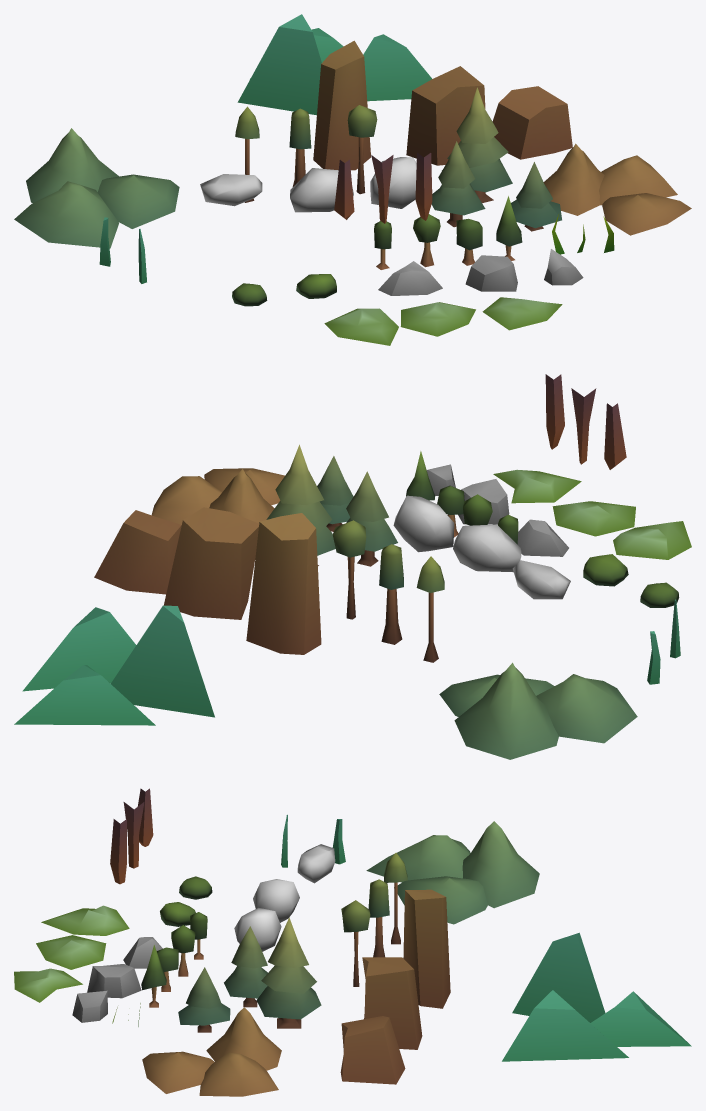
File: nature-kit-scene.glb
3 renders of one model, top to bottom at view 1: azimuth 30°, elevation 25°; view 2: azimuth 150°, elevation 25°; view 3: azimuth 270°, elevation 25°, orthographic. The views are drawn at different scales.
Parts seen in each view (by area): view 1: MountainFar001, Cliff003, Cliff001, Cliff002, Mountain002, TreeMed003, Mountain003, MountainFar002, Mountain001, HillSand001, HillSand003, TreeMed002 (+24 smaller); view 2: Cliff003, Cliff001, MountainFar001, Mountain001, Cliff002, MountainFar003, Mountain002, MountainFar002, TreeMed003, Cloud001, Cloud003, Hill003 (+22 smaller); view 3: MountainFar002, Cliff003, MountainFar001, Cliff001, TreeMed003, Mountain001, Cliff002, MountainFar003, Mountain002, HillSand002, HillSand001, Mountain003 (+24 smaller).
Boxes of the visible parts, x1,y1,x2,y2 form: MountainFar001: (237, 14, 321, 115); Cliff003: (313, 40, 370, 170); Cliff001: (406, 66, 485, 165); Cliff002: (492, 86, 572, 159); Mountain002: (14, 181, 118, 248); TreeMed003: (442, 87, 512, 203); Mountain003: (98, 174, 179, 228); MountainFar002: (363, 34, 431, 101); Mountain001: (26, 128, 118, 202); HillSand001: (543, 143, 604, 215); HillSand003: (602, 193, 691, 235); TreeMed002: (431, 141, 485, 227); Cliff003: (246, 513, 321, 654); Cliff001: (163, 507, 259, 619); MountainFar001: (111, 605, 214, 717); Mountain001: (454, 662, 558, 759); Cliff002: (94, 510, 181, 594); MountainFar003: (14, 665, 155, 725); Mountain002: (536, 674, 637, 743); MountainFar002: (22, 607, 136, 691); TreeMed003: (266, 444, 335, 565); Cloud001: (453, 524, 521, 572); Cloud003: (393, 495, 454, 552); Hill003: (613, 521, 691, 559); MountainFar002: (502, 990, 628, 1061); Cliff003: (403, 889, 450, 1008); MountainFar001: (512, 932, 605, 1022); Cliff001: (362, 957, 422, 1049); TreeMed003: (256, 917, 321, 1028); Mountain001: (462, 821, 539, 908); Cliff002: (340, 1016, 405, 1084); MountainFar003: (590, 991, 691, 1046); Mountain002: (366, 835, 470, 882); HillSand002: (199, 1052, 278, 1096); HillSand001: (206, 1007, 281, 1070); Mountain003: (394, 876, 487, 924).
Bounding box in the file's own units: 4984 × 1297 × 5808.
1 material, 1 textured.
